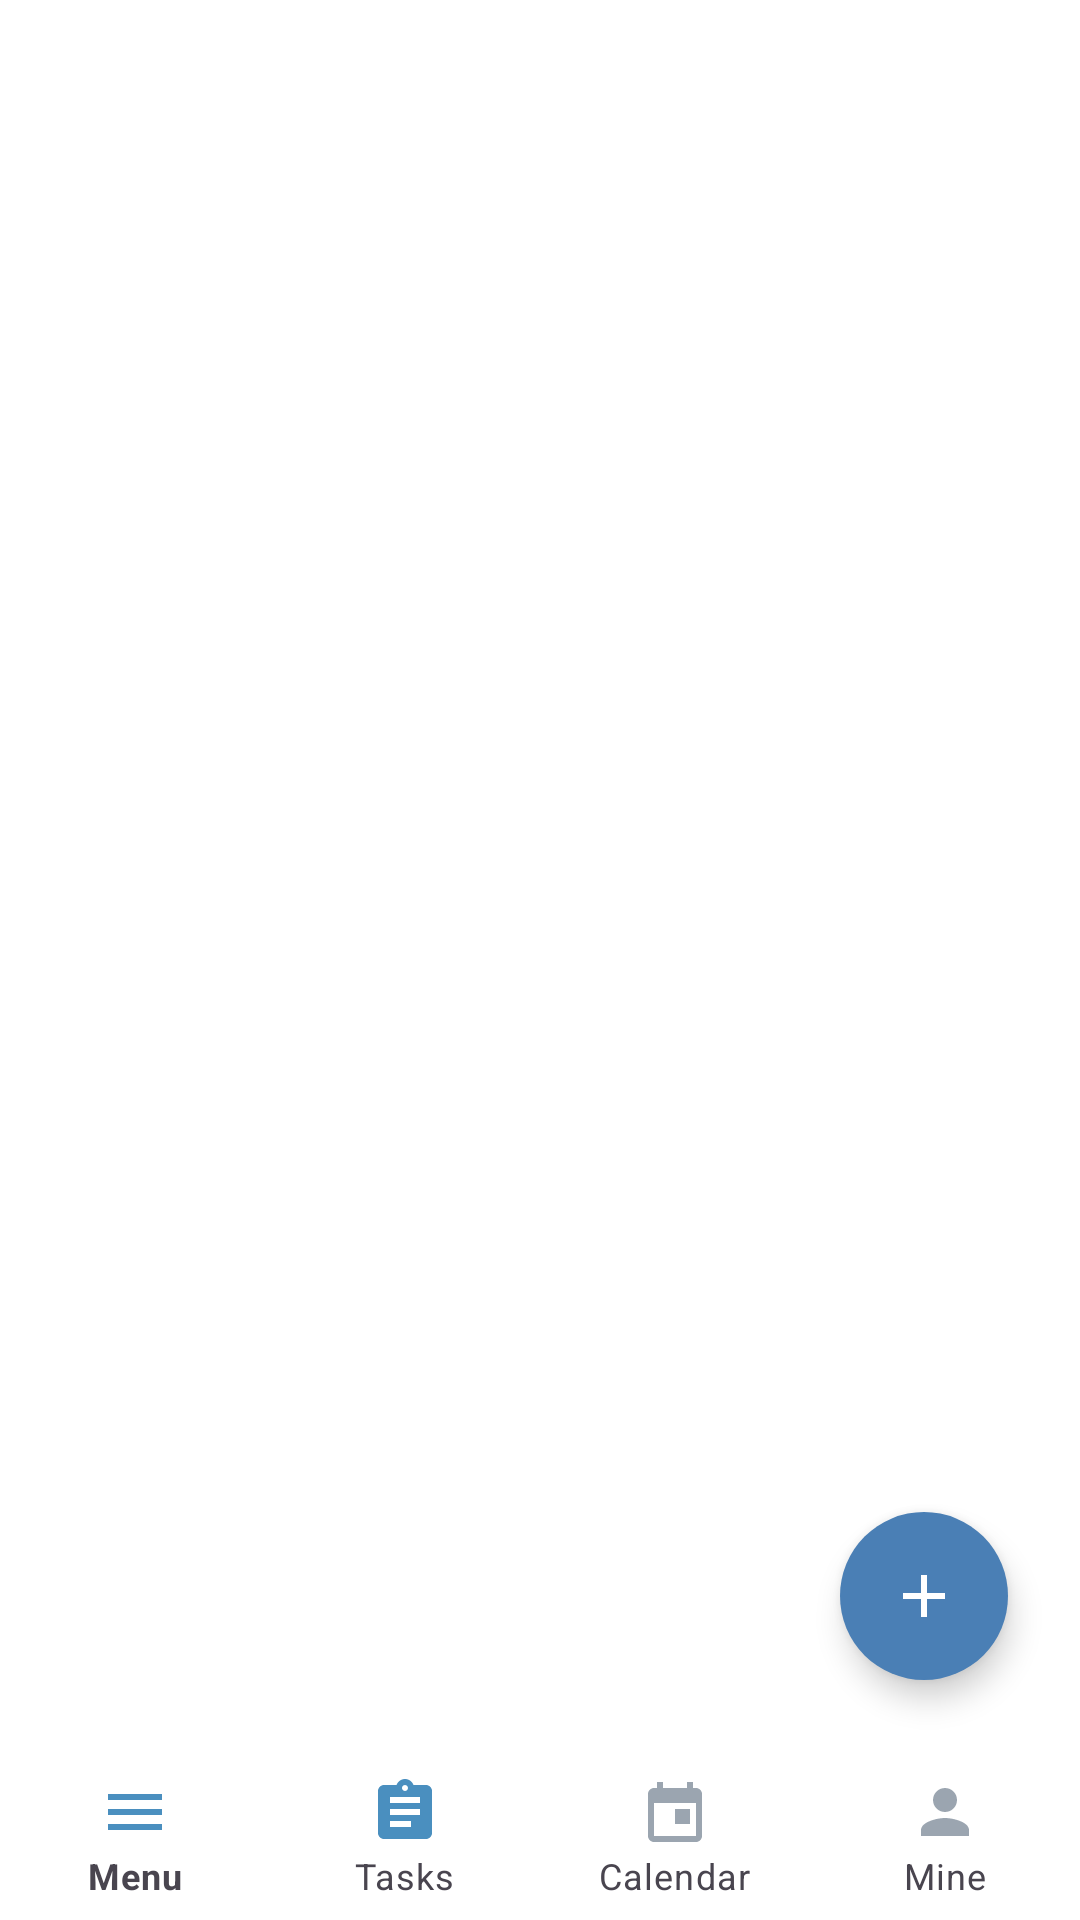

Icons on this 1080 x 1920 Android screen, each with the point to tap as point (x, y):
add: point (924, 1596)
